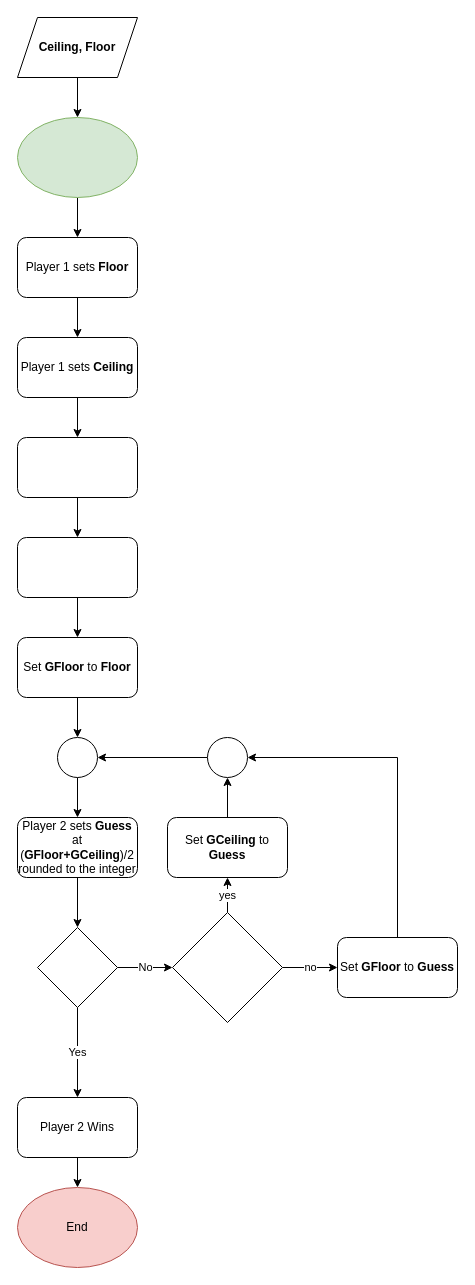
The diagram is 475 pixels wide and 1285 high, and some of its shapes have lost their labels. Each missing label, with the box of its shape:
Is Guess = Answer: (36, 926, 118, 1008)
Is Guess Higher than Answer ?: (172, 912, 282, 1022)
Player 1 sets Answer between Floor and Ceiling: (16, 436, 138, 498)
Set GCeiling to Ceiling: (16, 536, 138, 598)
Start: (16, 116, 138, 198)
